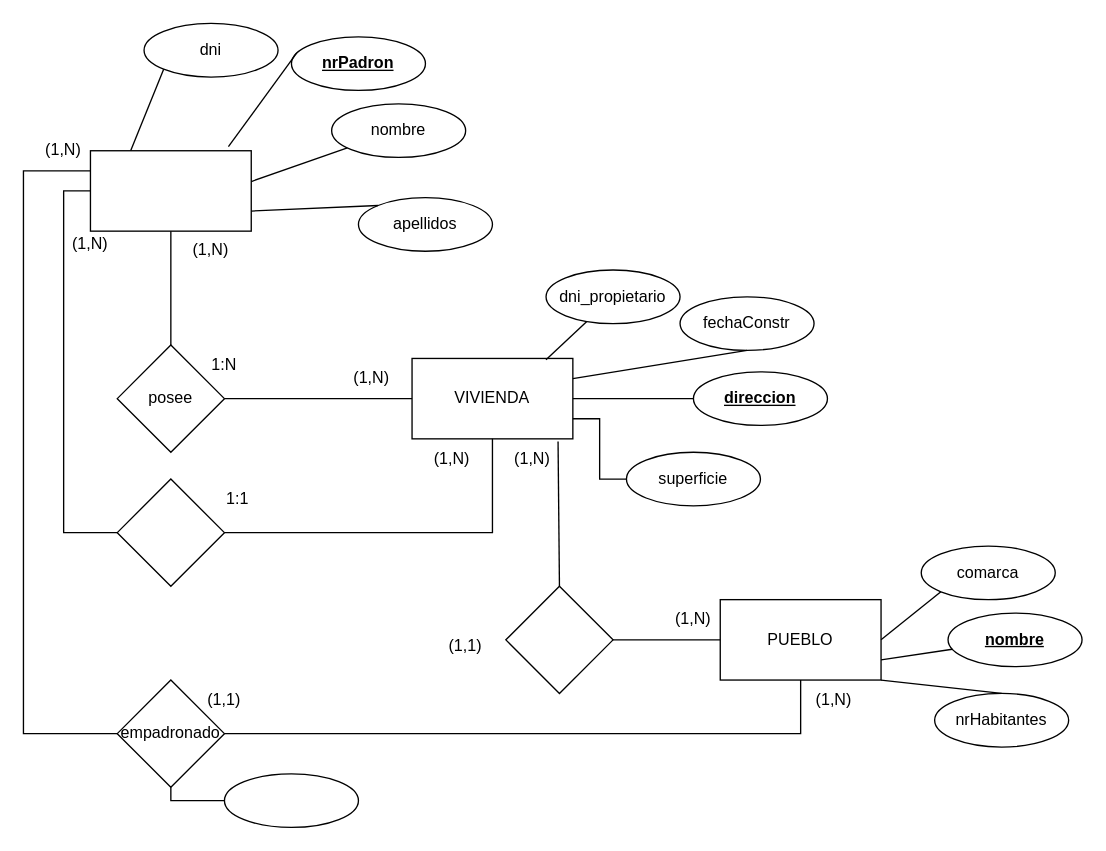
The diagram is 1106 pixels wide and 851 high, and some of its shapes have lost their labels. The centre of each missing label's shape, as x and y in pixels:
"cabezaFamilia" goes at point (290, 800).
"HABITANTE" goes at point (170, 190).
"ubicada" goes at point (559, 639).
"vive" goes at point (170, 532).
